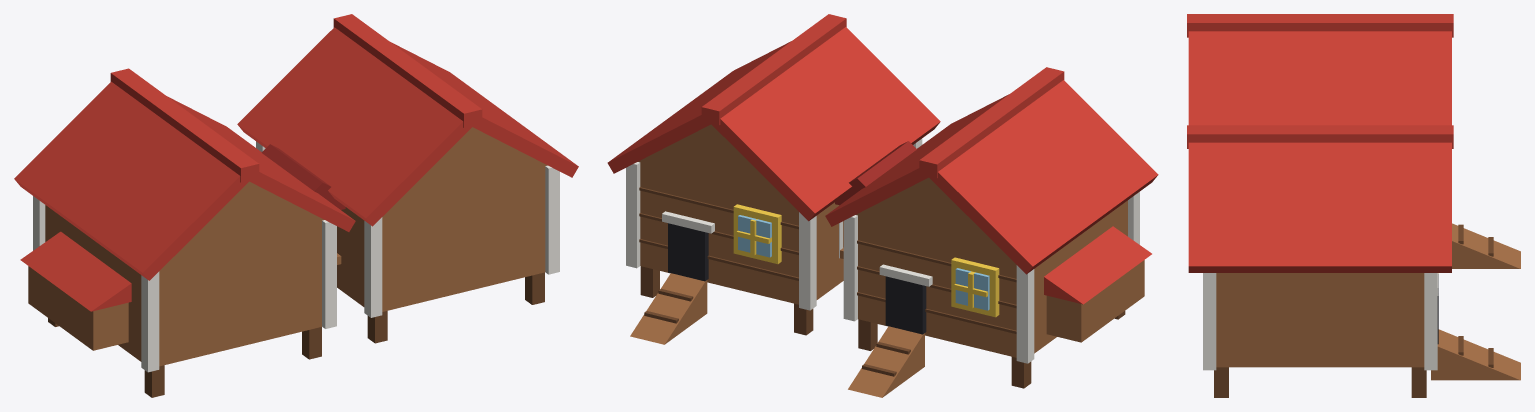
Rendered from TwinCoop.fbx.
3 views of the same model, side by side, from view 1: azimuth 30°, elevation 25°; view 2: azimuth 150°, elevation 25°; view 3: azimuth 270°, elevation 25° (orthographic). The views are drawn at different scales.
Parts seen in each view (by area): view 1: TwinCoop; view 2: TwinCoop; view 3: TwinCoop.
Part boxes in pixels (bbox=[...]): TwinCoop: bbox=[14, 14, 578, 397]; TwinCoop: bbox=[607, 14, 1158, 397]; TwinCoop: bbox=[1187, 14, 1520, 397].
Bounding box in the file's own units: 507 × 233 × 312.
